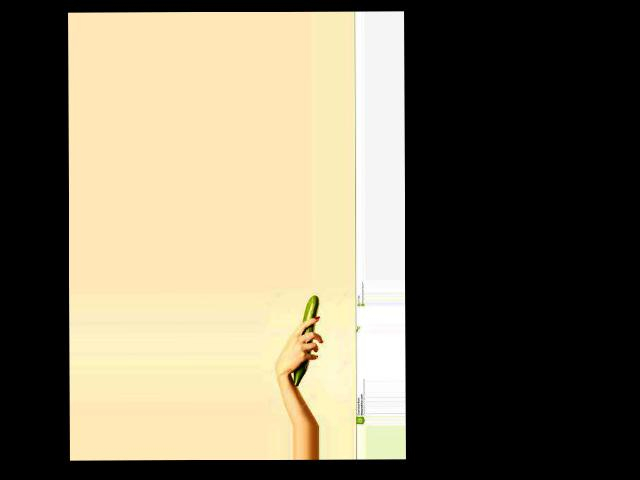cucumber: (294, 295, 319, 387)
